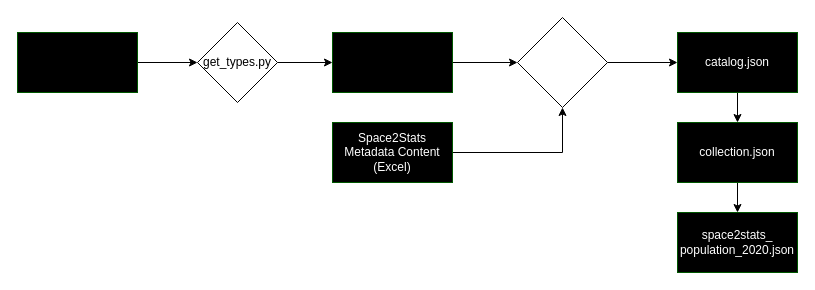
Some shapes in this 815 by 290 pixel diagram are drawn without their labels. Each missing label, with the box of its shape:
create_stac.py: (516, 16, 608, 108)
local.parquet: (16, 32, 138, 92)
types.json: (332, 32, 452, 92)
